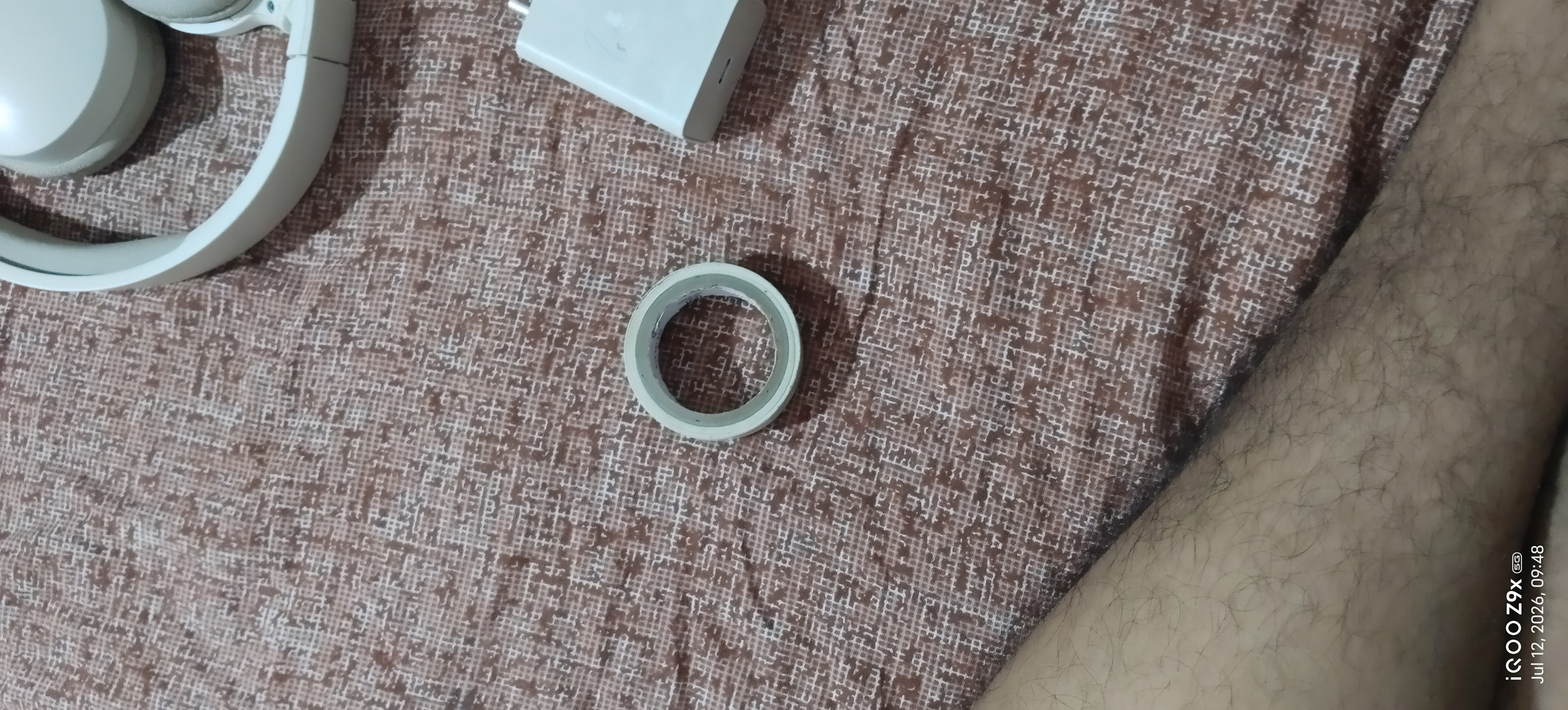charger: (476, 0, 805, 173)
tape_roll: (592, 256, 831, 462)
